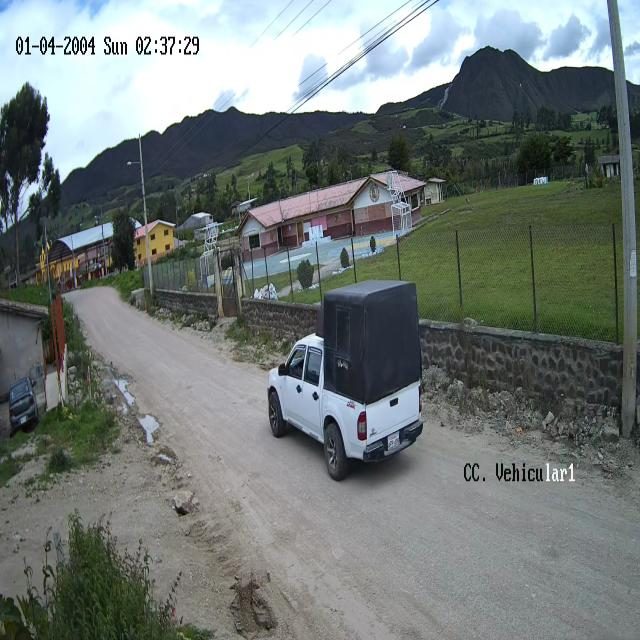CMT: (266, 328, 423, 481)
